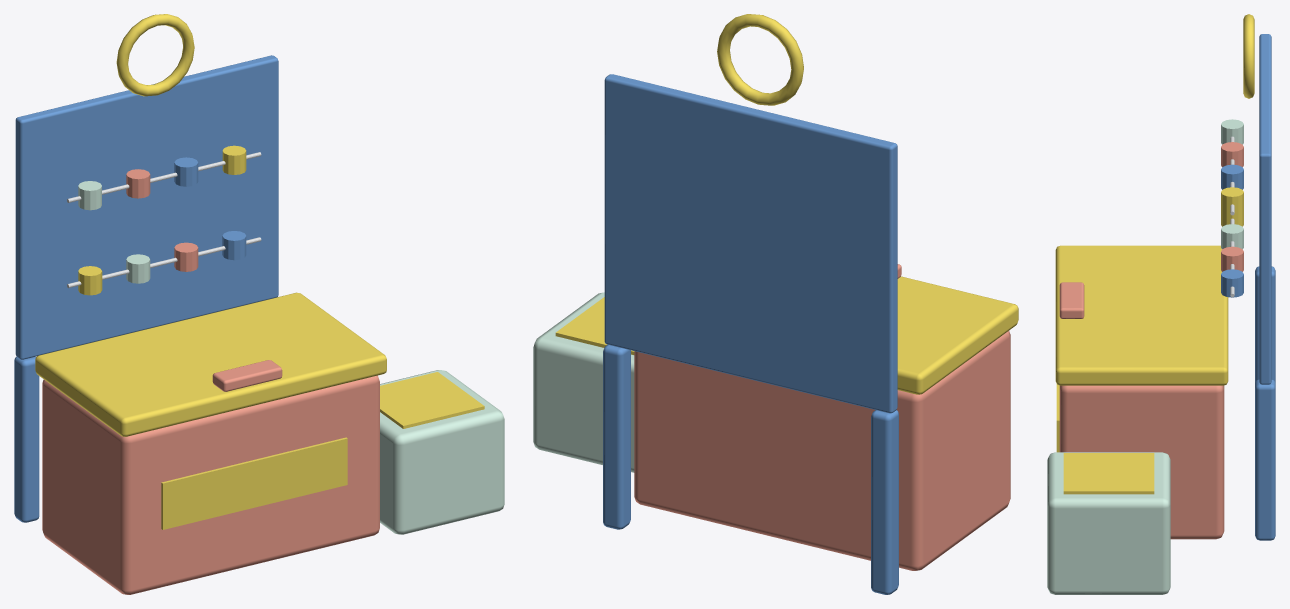
Rendered from play_corner.glb.
The picture shows the model from 3 angles, left to right: view 1: azimuth 30°, elevation 25°; view 2: azimuth 150°, elevation 25°; view 3: azimuth 270°, elevation 25°; orthographic projection. The views are drawn at different scales.
Visible parts, largest first — view 1: childrens-play-corner, lid/yellow, lid/coral; view 2: childrens-play-corner, lid/yellow; view 3: childrens-play-corner, lid/yellow, lid/coral.
Part boxes in pixels (x1=…): childrens-play-corner: x1=14, y1=14, x2=504, y2=594; lid/yellow: x1=35, y1=292, x2=386, y2=436; lid/coral: x1=212, y1=360, x2=282, y2=391; childrens-play-corner: x1=533, y1=14, x2=1010, y2=594; lid/yellow: x1=897, y1=276, x2=1018, y2=394; childrens-play-corner: x1=1047, y1=14, x2=1275, y2=594; lid/yellow: x1=1055, y1=245, x2=1228, y2=385; lid/coral: x1=1059, y1=282, x2=1084, y2=318.
Bounding box in the file's own units: 1.03 × 1.24 × 0.555.
